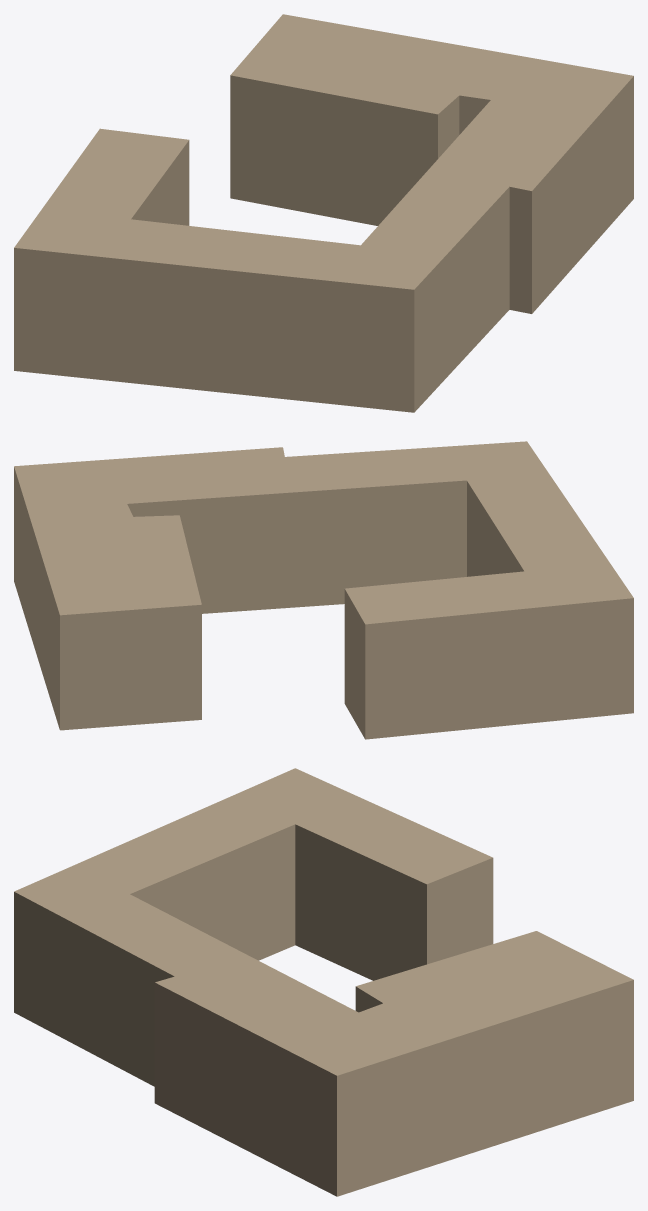
The model's file is bld_108400931.dae.
3 views of the same model, one above another, from view 1: azimuth 30°, elevation 25°; view 2: azimuth 150°, elevation 25°; view 3: azimuth 270°, elevation 25° (orthographic). The views are drawn at different scales.
Parts seen in each view (by area): view 1: bld_108400931; view 2: bld_108400931; view 3: bld_108400931.
Boxes of the visible parts, left/top/right/bottom form: bld_108400931: left=14, top=14, right=633, bottom=412; bld_108400931: left=14, top=441, right=633, bottom=739; bld_108400931: left=14, top=768, right=633, bottom=1196.
Bounding box in the file's own units: 43.63 × 37.15 × 8.
